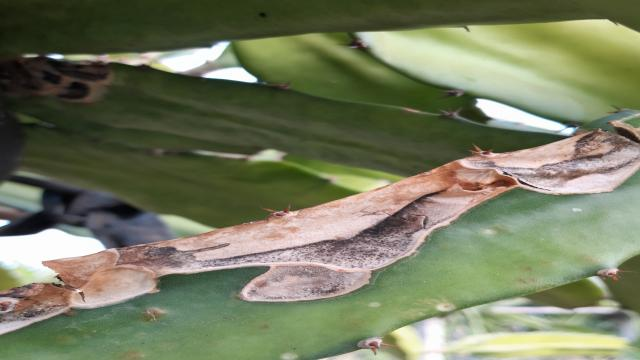stemcanker: (133, 302, 171, 328)
